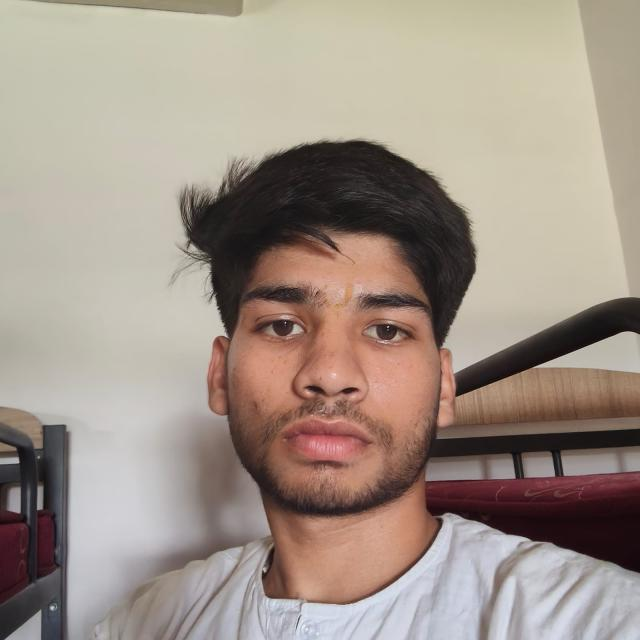no-hairnet: (181, 140, 475, 638), (182, 141, 475, 604)
